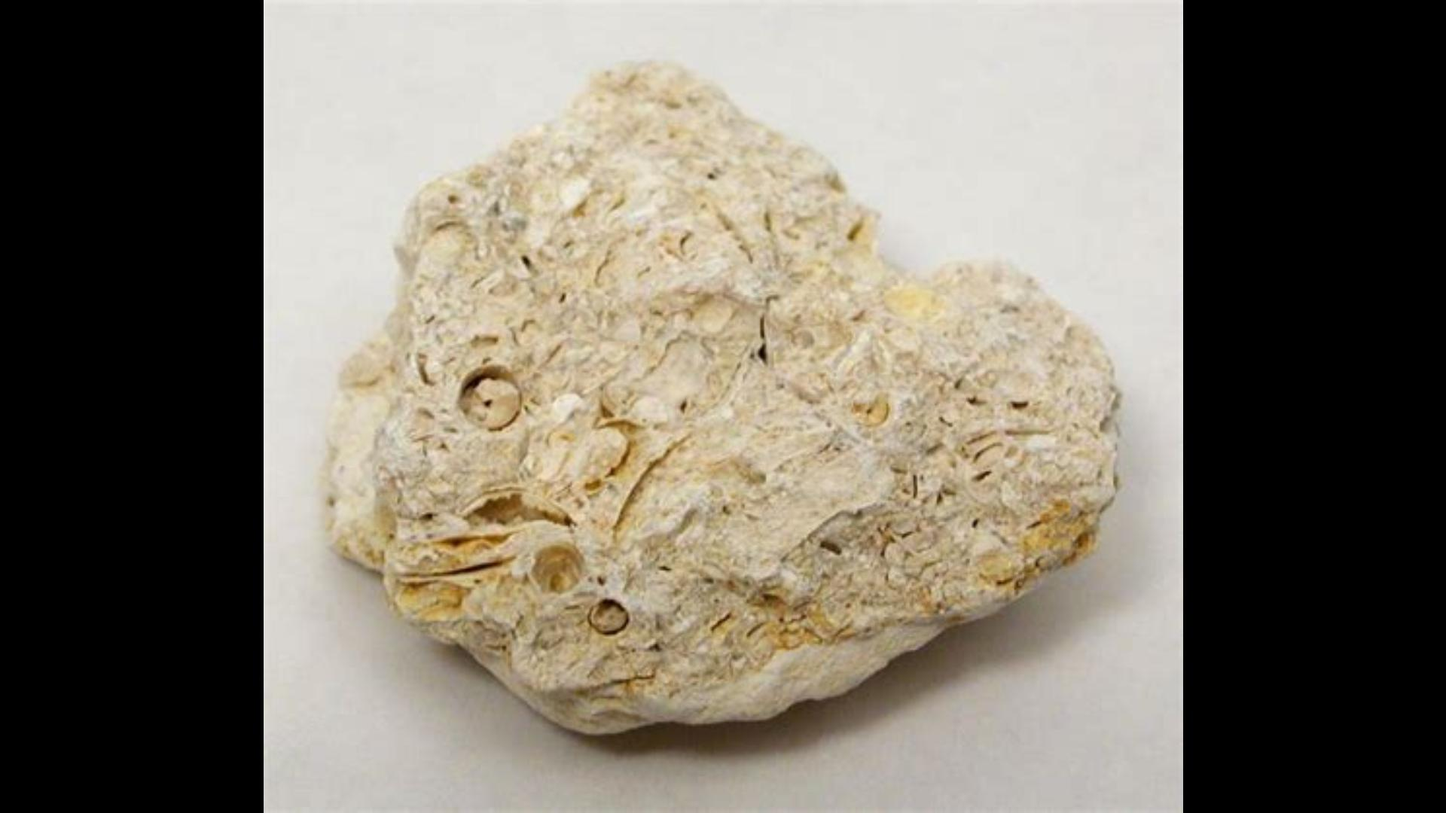rock: (329, 66, 1117, 732)
